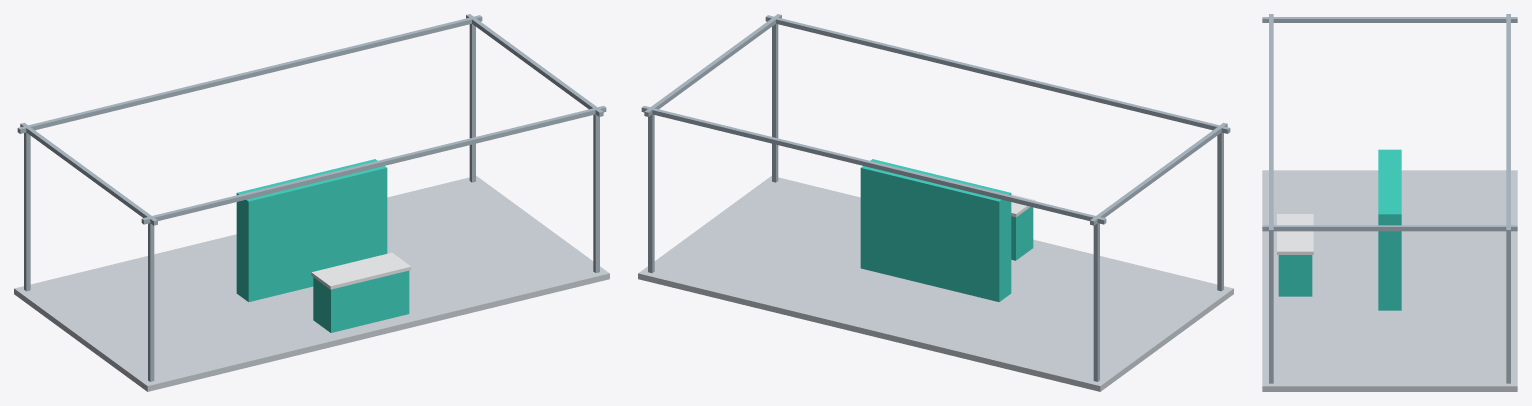
The picture shows the model from 3 angles, left to right: view 1: azimuth 30°, elevation 25°; view 2: azimuth 150°, elevation 25°; view 3: azimuth 270°, elevation 25°; orthographic projection. The views are drawn at different scales.
Parts seen in each view (by area): view 1: Exhibition Booth Concept; view 2: Exhibition Booth Concept; view 3: Exhibition Booth Concept.
Boxes of the visible parts, box(x1,y1,x2,y2) form: Exhibition Booth Concept: box(14, 14, 609, 391); Exhibition Booth Concept: box(638, 14, 1233, 391); Exhibition Booth Concept: box(1262, 14, 1517, 391).
Bounding box in the file's own units: 10 × 3.49 × 5.
